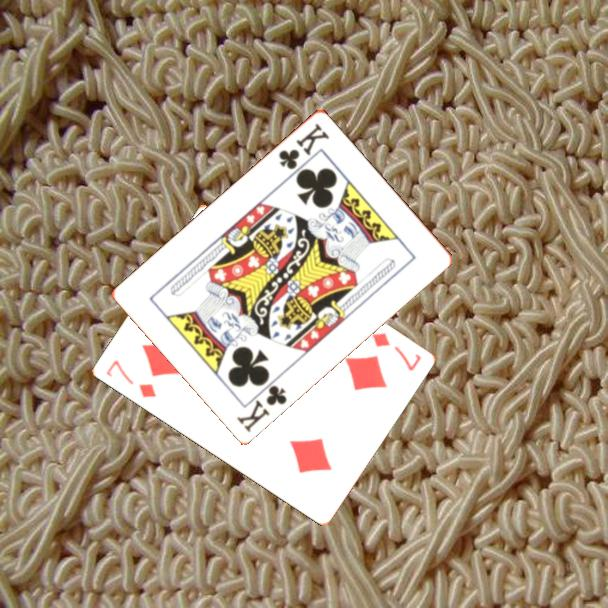c13: (233, 381, 290, 435), (275, 119, 332, 172)
d07: (102, 356, 159, 401), (368, 329, 424, 374)
